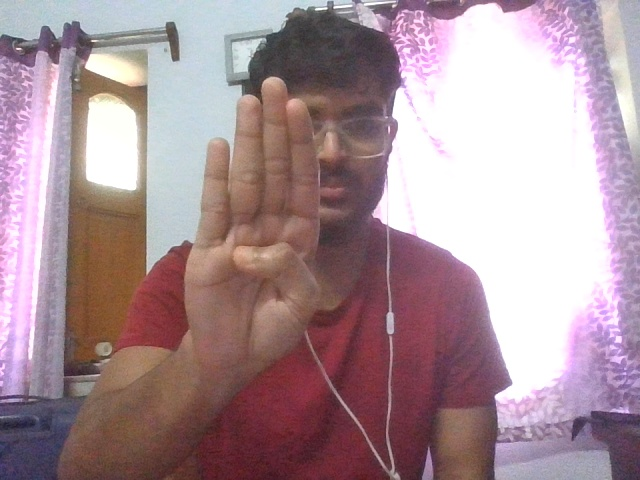LiveLong: (184, 76, 322, 352)
